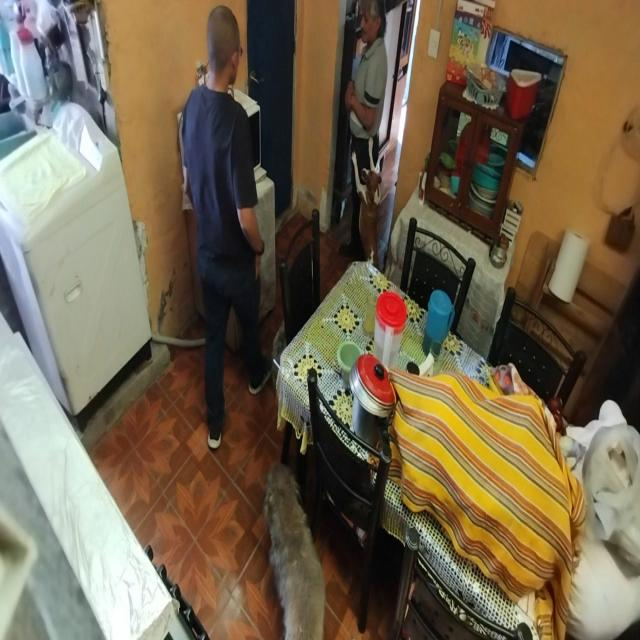adult: (177, 6, 275, 452), (338, 2, 392, 274)
